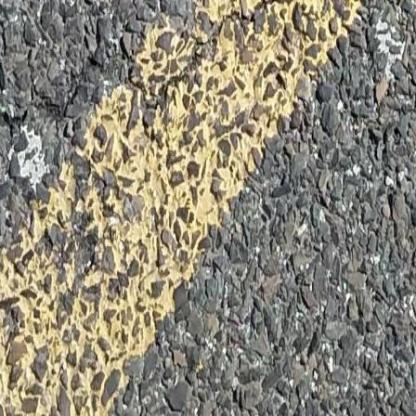Cracks: (0, 0, 146, 177)
